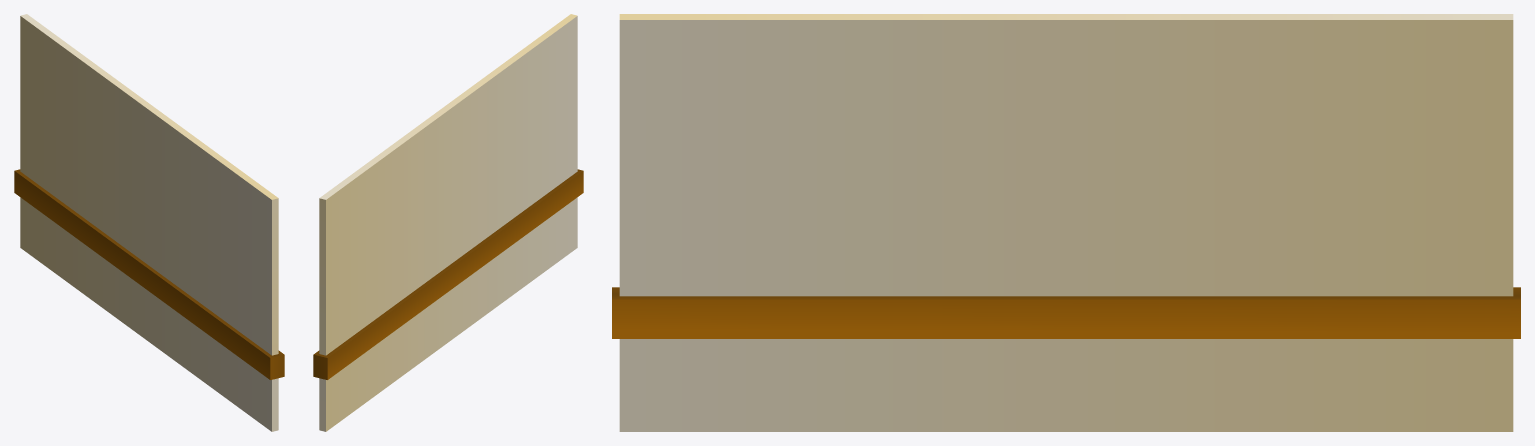
File: Wall2.fbx
3 views of the same model, side by side, from view 1: azimuth 30°, elevation 25°; view 2: azimuth 150°, elevation 25°; view 3: azimuth 270°, elevation 25° (orthographic). The views are drawn at different scales.
Parts seen in each view (by area): view 1: wall2; view 2: wall2; view 3: wall2.
Boxes of the visible parts, x1,y1,x2,y2 form: wall2: (14,14,284,431); wall2: (313,14,583,431); wall2: (612,14,1520,431).
Size of the model in its own units: 15.77 by 246 by 493.
